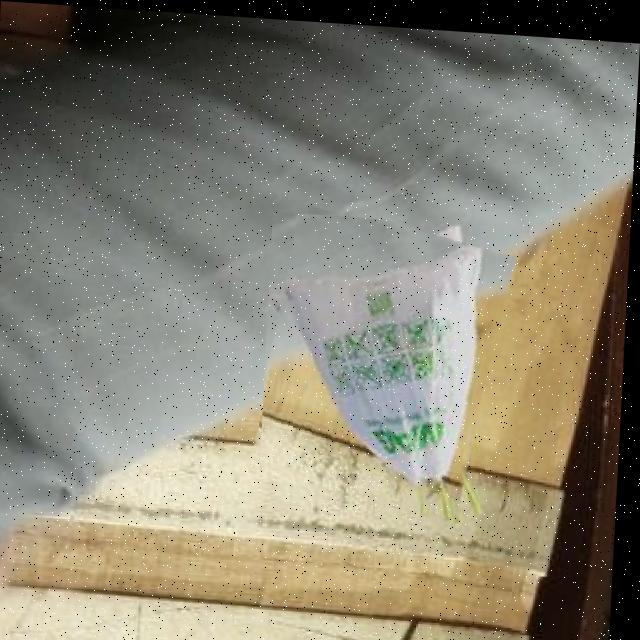plasticcover: (262, 207, 509, 509)
